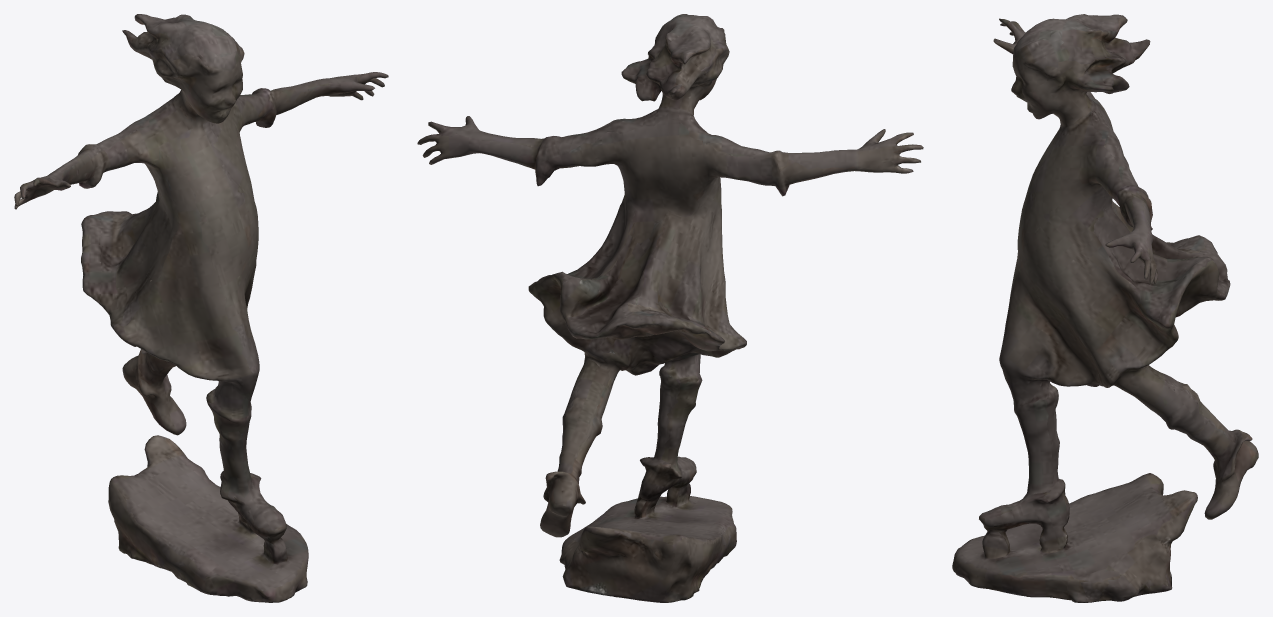
3 views of the same model, side by side, from view 1: azimuth 30°, elevation 25°; view 2: azimuth 150°, elevation 25°; view 3: azimuth 270°, elevation 25° (orthographic). The views are drawn at different scales.
Bounding box in the file's own units: 0.2775 × 0.3307 × 0.1718.
Materials: 1 (1 with a texture image).
